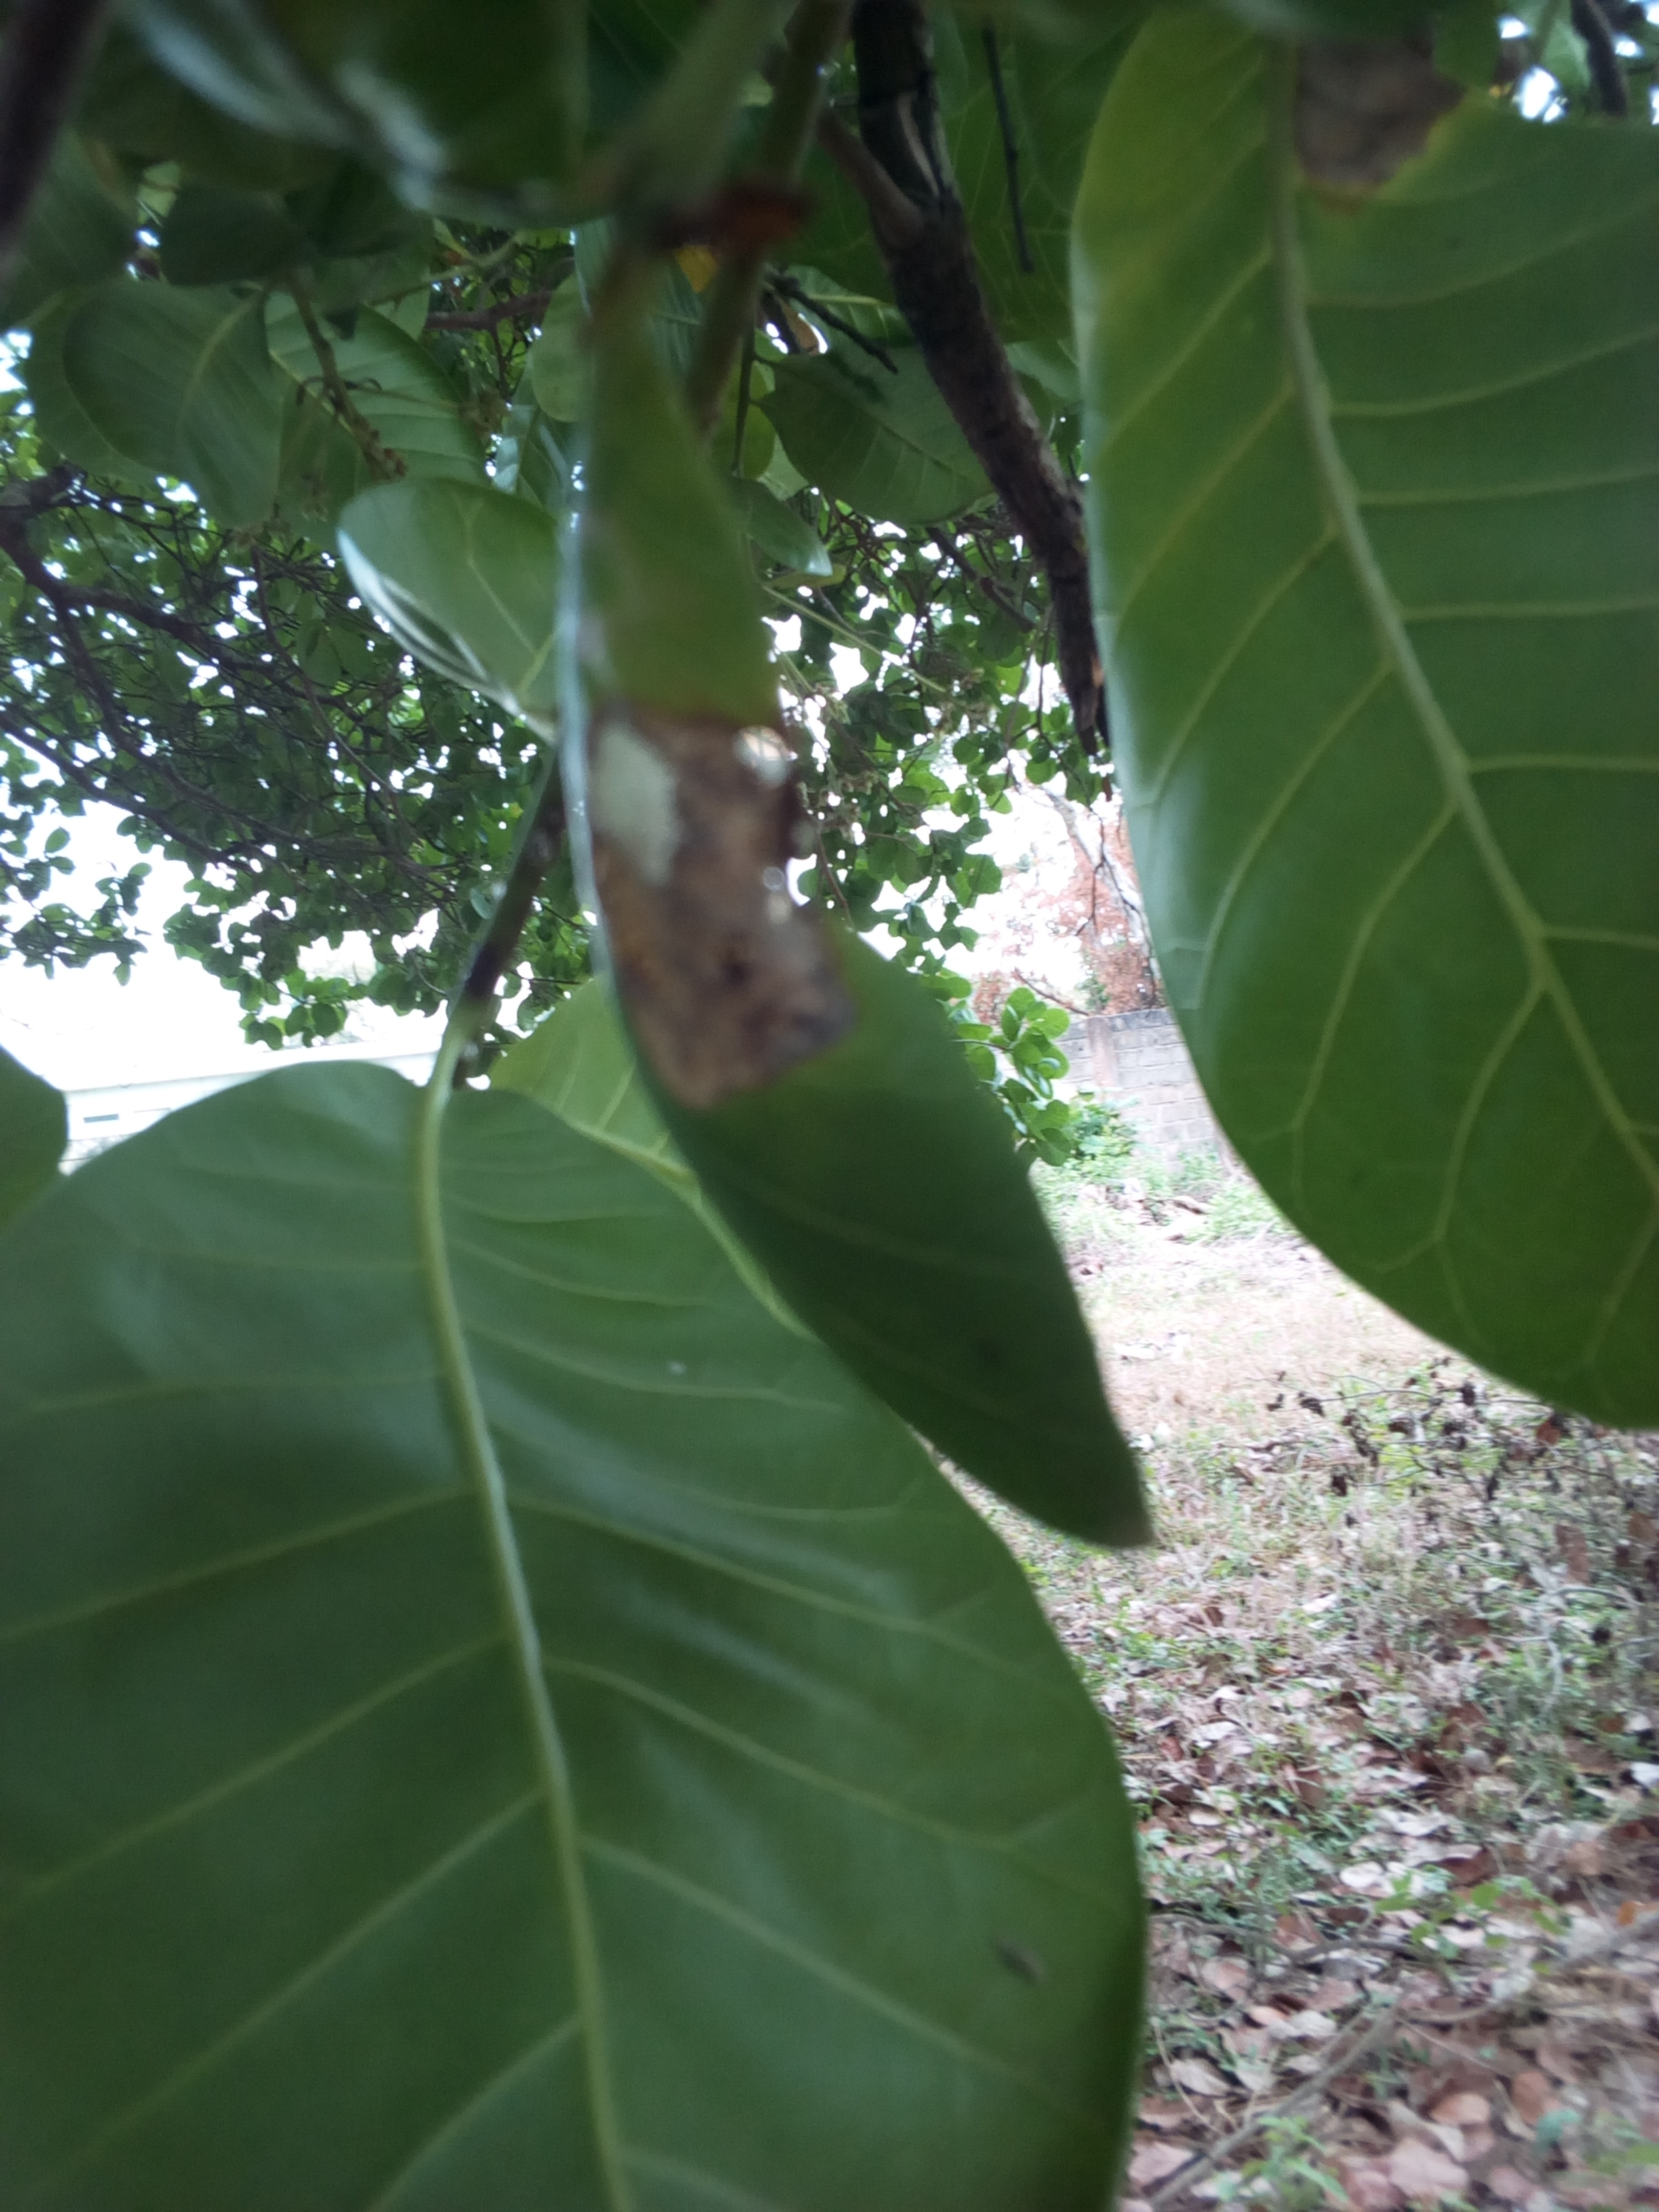Dysdercus wolkerii: (518, 235, 1206, 1583)
